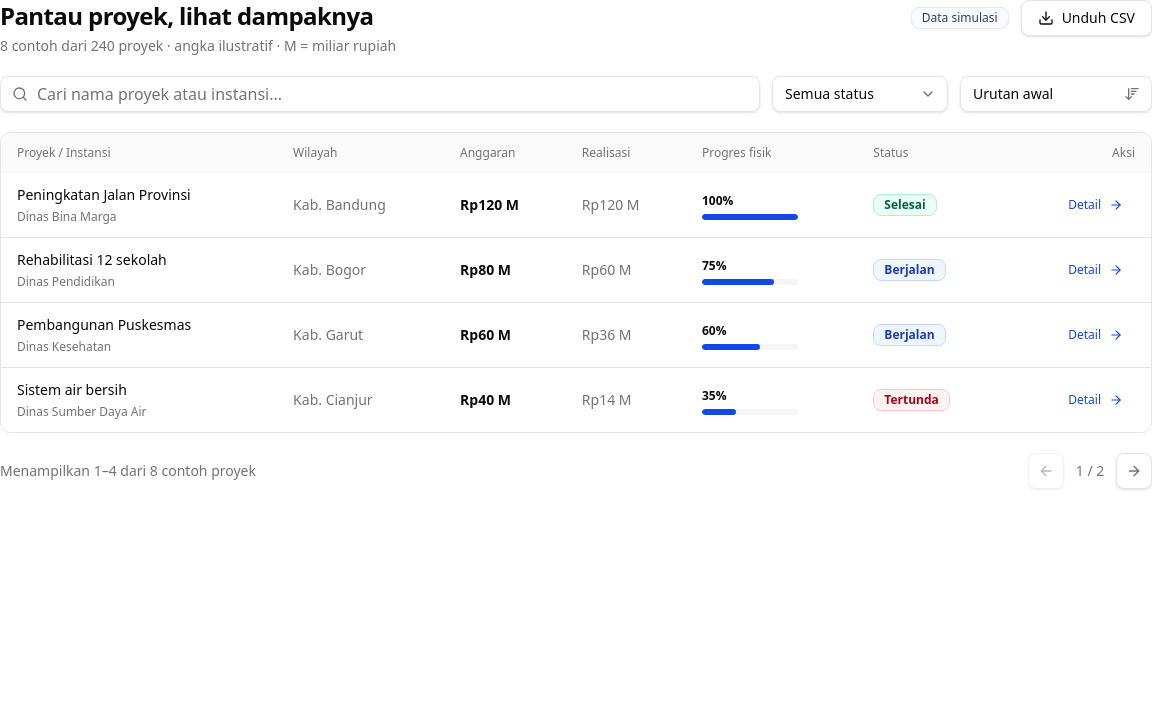
Test: ProjectDataTable › opens the selected project drawer and restores focus after Escape
Click the button named "Detail Rehabilitasi 12 sekolah".
click(1096, 270)  # box [1056,254,1135,286]
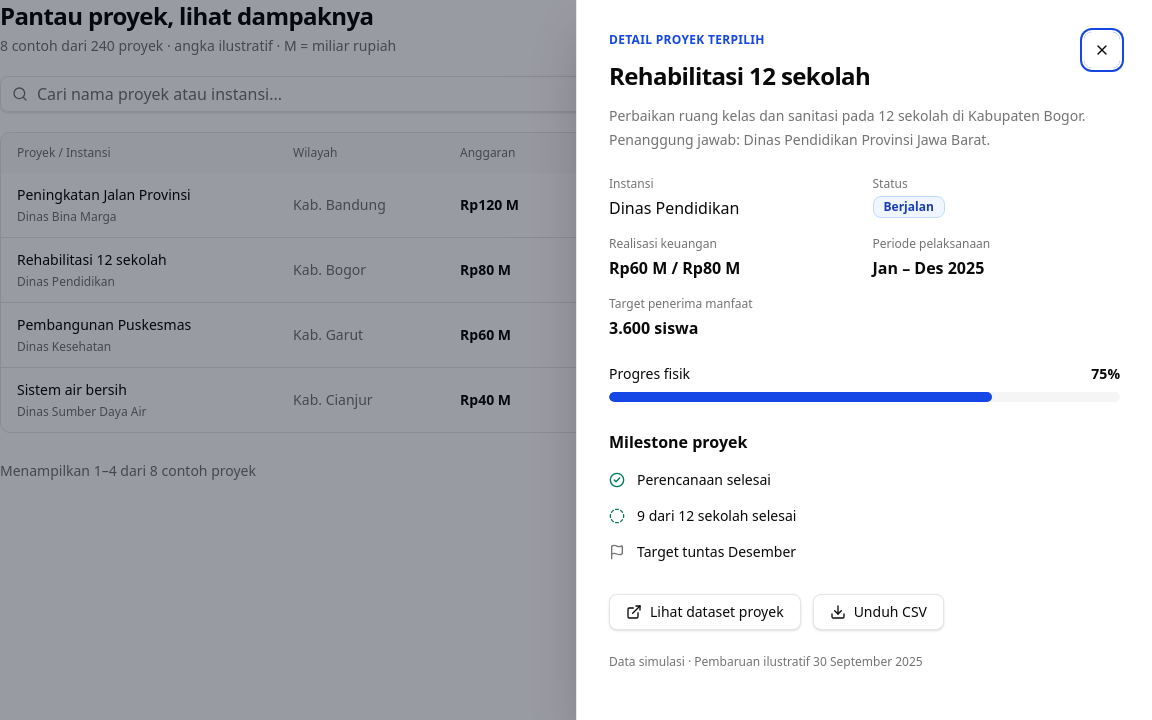
Expected: the dialog is shown, [576,0,1151,719]
Expected: the text "3.600 siswa" is shown, [609,317,698,339]
Expected: the text "9 dari 12 sekolah selesai" is shown, [637,506,796,526]
Press Escape
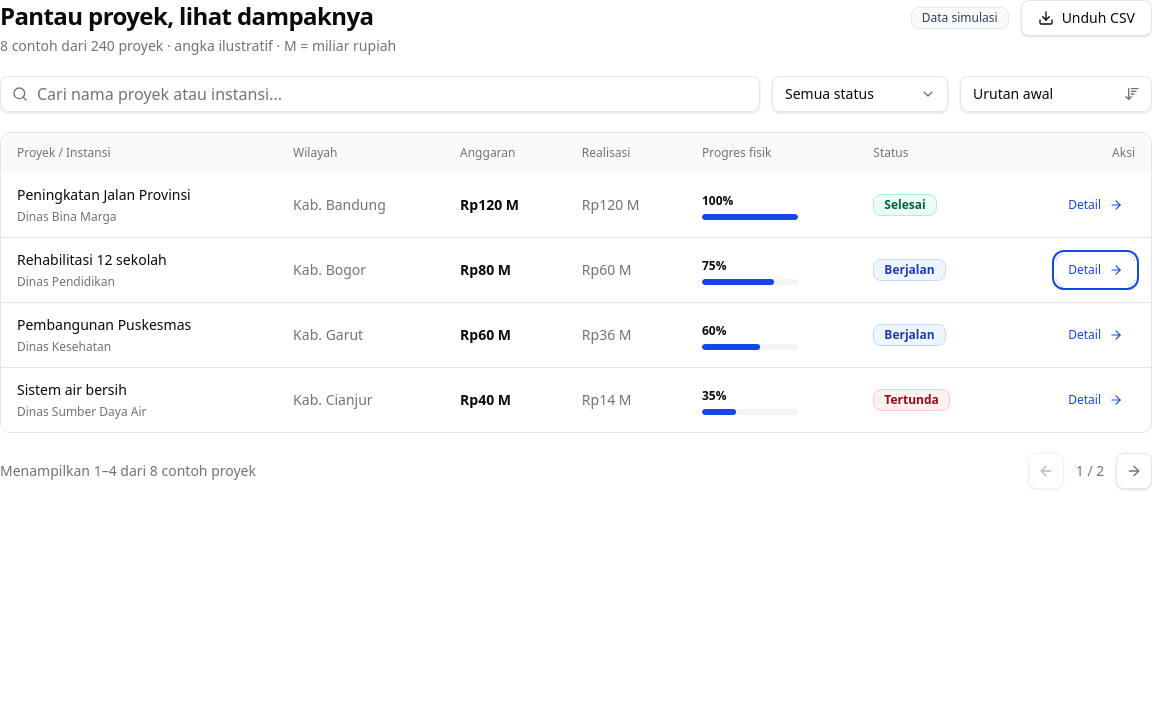
Expected: the dialog is gone
